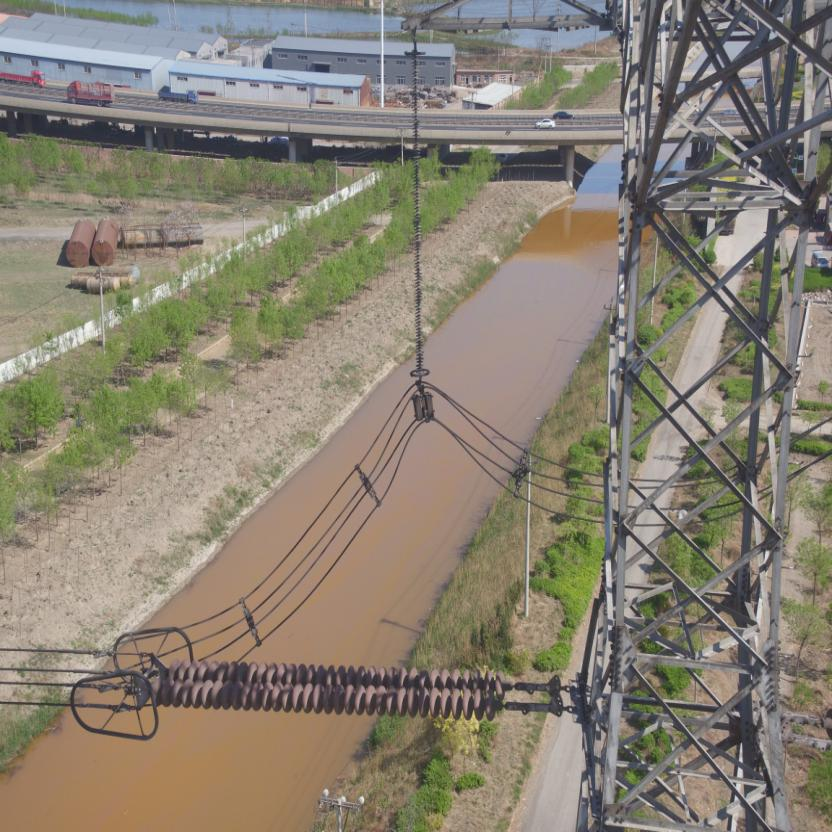insulator: (146, 649, 528, 722)
